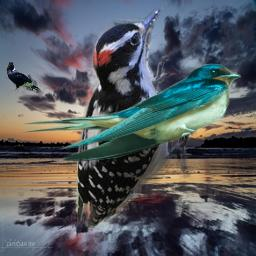Crow: (6, 61, 40, 92)
Swallow: (19, 63, 241, 163)
Woodpecker: (77, 6, 197, 229)
